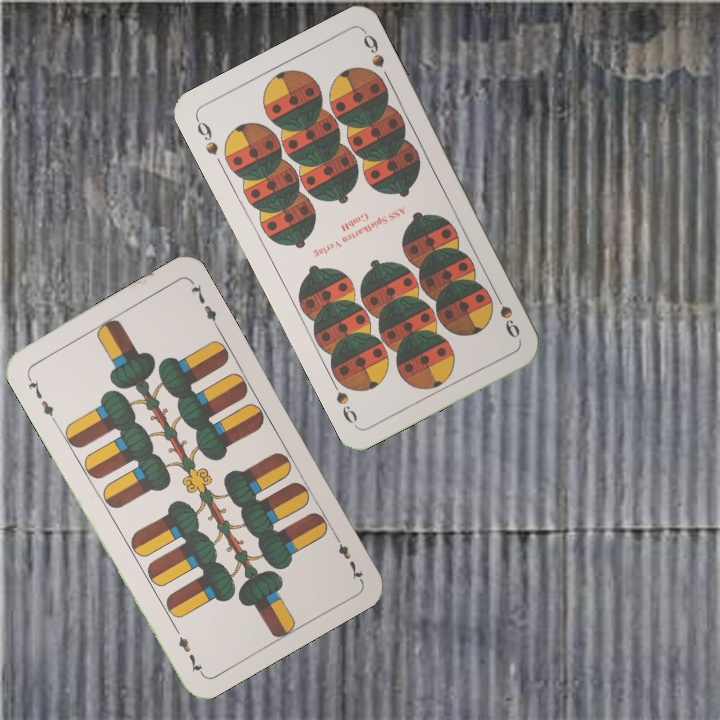E7: (329, 529, 366, 583), (23, 371, 59, 425)
S9: (489, 286, 523, 341), (191, 114, 221, 158)
